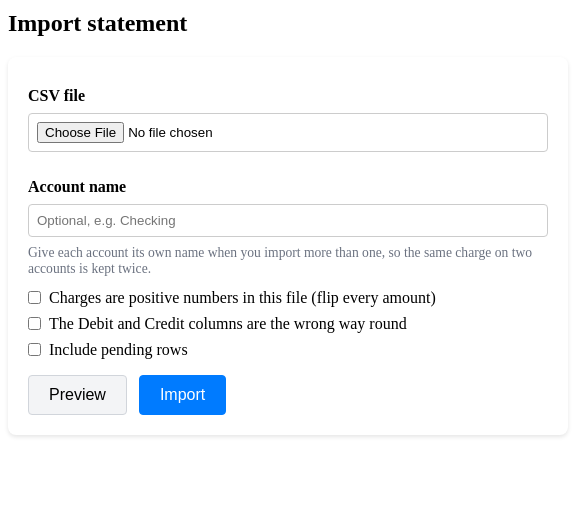
Scenario: importing a statement › imports, shows the counts and tells the page to reload
The width and height of the screenshot is (585, 512).
Earlier steps of the test are not shown.
Click the button "Import" at (183, 395), box top-left (139, 375), bottom-right (226, 415)
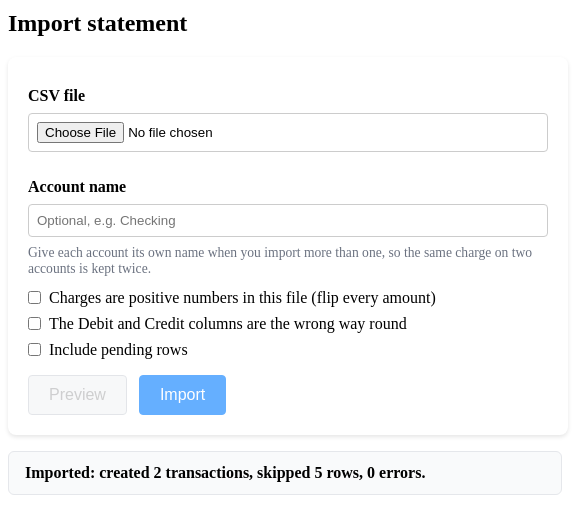
Now the text "Imported: created 2 transactions, skipped 5 rows, 0 errors." is shown, box top-left (25, 464), bottom-right (425, 481)
Now the button "Import" is disabled, box top-left (139, 375), bottom-right (226, 415)
